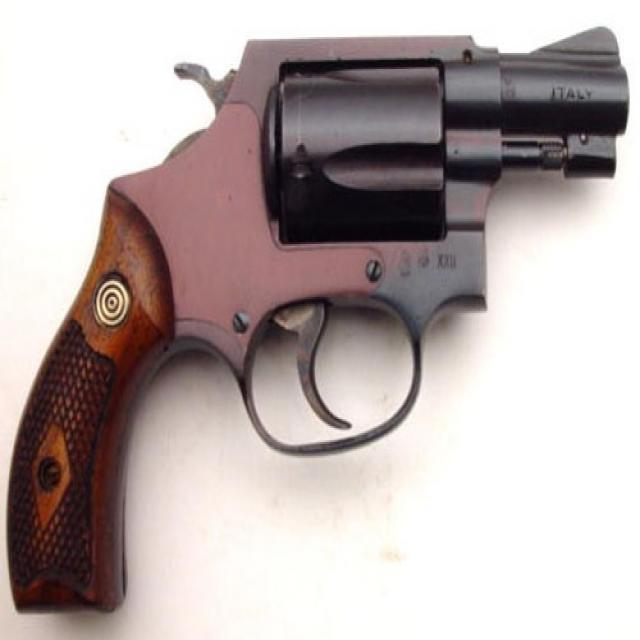gun-knife-thesis - v11 Yolov5 augmented: (10, 7, 632, 610)
